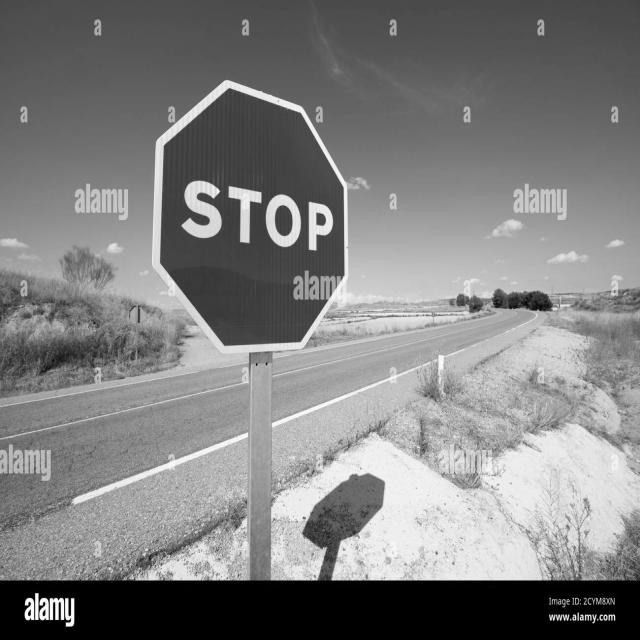Stop-sign: (135, 69, 360, 375)
